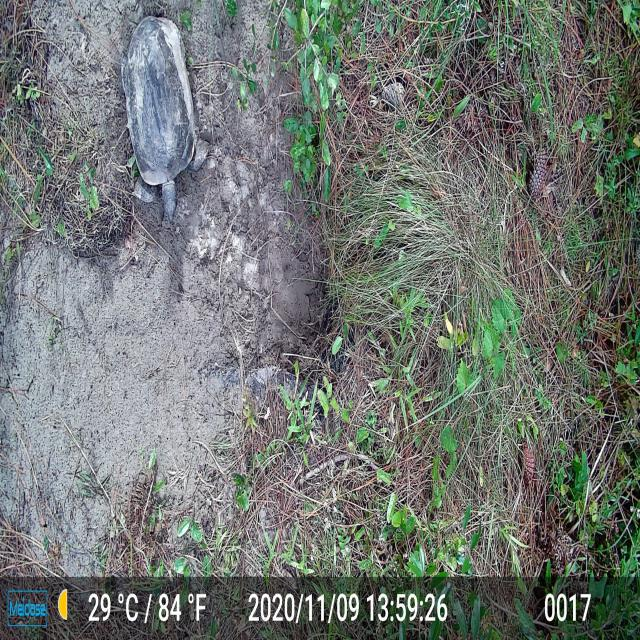tortoise: (119, 8, 211, 224)
